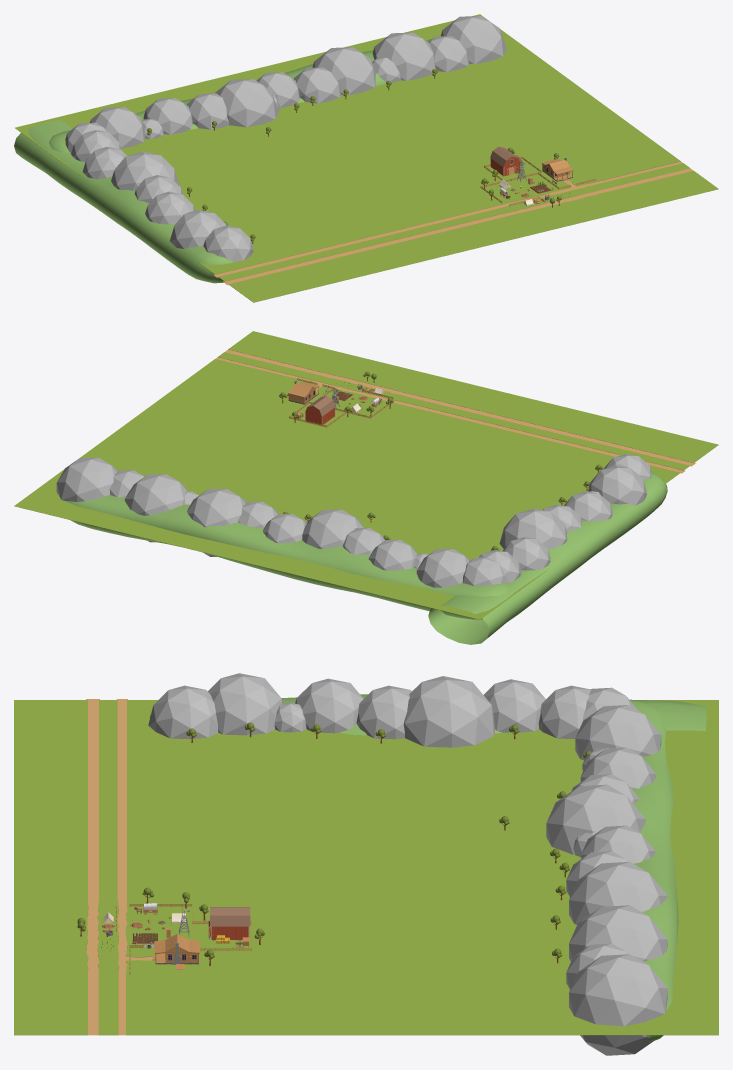
File: homestead-transformed.glb
The picture shows the model from 3 angles, top to bottom: view 1: azimuth 30°, elevation 25°; view 2: azimuth 150°, elevation 25°; view 3: azimuth 270°, elevation 25°; orthographic projection. The views are drawn at different scales.
Visible parts, largest first — view 1: Ground.001, rocks, green, Road, Farm_House, Fence; view 2: Ground.001, rocks, green, Road, Farm_House; view 3: Ground.001, rocks, green, Road, Farm_House, tree, House_Part.
Part boxes in pixels (<box>): Ground.001: <box>15,14,718,302</box>; rocks: <box>65,16,506,261</box>; green: <box>14,39,431,283</box>; Road: <box>214,161,693,285</box>; Farm_House: <box>490,146,520,176</box>; Fence: <box>480,156,596,205</box>; Ground.001: <box>14,331,718,619</box>; rocks: <box>56,454,651,587</box>; green: <box>65,472,667,644</box>; Road: <box>215,349,695,473</box>; Farm_House: <box>305,396,335,425</box>; Ground.001: <box>14,700,718,1035</box>; rocks: <box>148,673,667,1055</box>; green: <box>150,694,706,1042</box>; Road: <box>86,699,153,1035</box>; Farm_House: <box>208,907,250,939</box>; tree: <box>186,722,590,963</box>; House_Part: <box>154,934,199,964</box>.
Bounding box in the file's own units: 273 × 36.85 × 239.
Materials: 10 (8 with a texture image).
